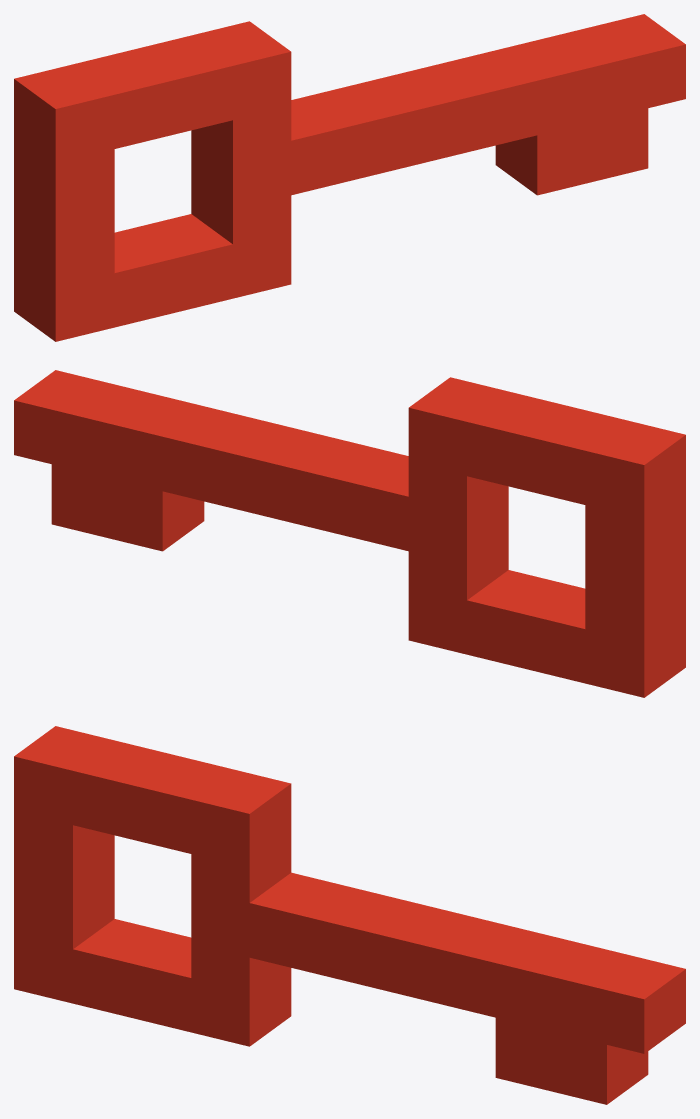
Rendered from Icon_Key_01.fbx.
3 views of the same model, one above another, from view 1: azimuth 30°, elevation 25°; view 2: azimuth 150°, elevation 25°; view 3: azimuth 330°, elevation 25° (orthographic).
Visible parts, largest first — view 1: Icon_Key_01; view 2: Icon_Key_01; view 3: Icon_Key_01.
Boxes of the visible parts, left/top/right/bottom form: Icon_Key_01: left=14, top=14, right=685, bottom=341; Icon_Key_01: left=14, top=370, right=685, bottom=697; Icon_Key_01: left=14, top=726, right=685, bottom=1104.
Size of the model in its own units: 106 by 37.26 by 12.06.
